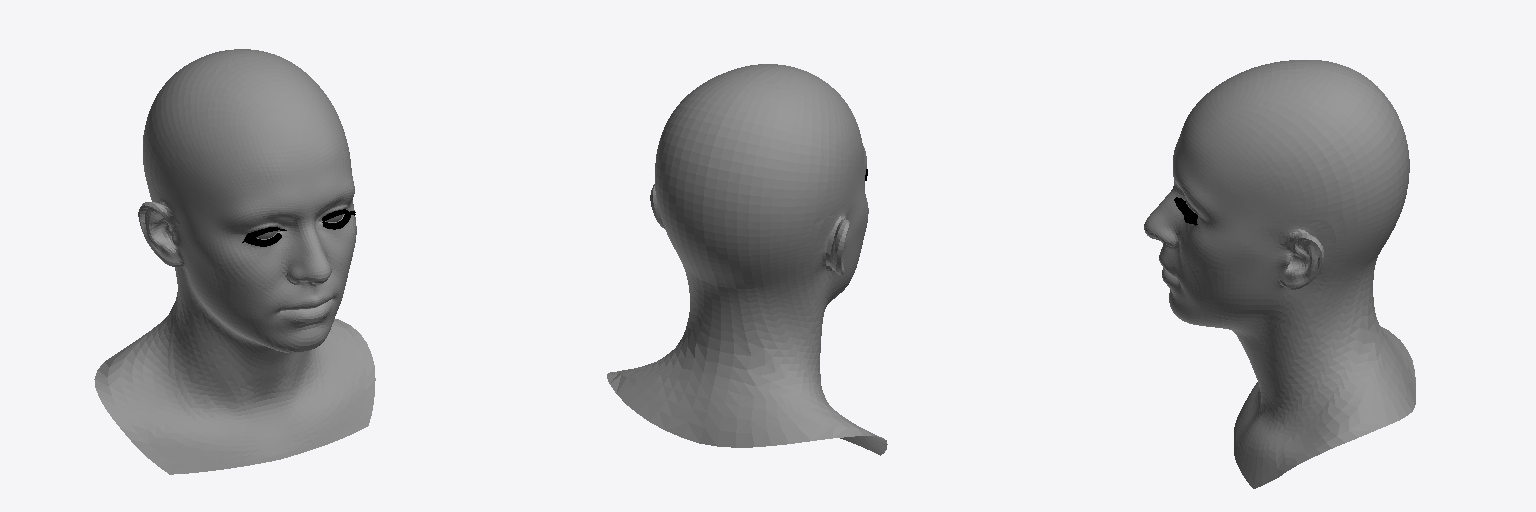
Rendered from identity061.obj.
3 views of the same model, side by side, from view 1: azimuth 30°, elevation 25°; view 2: azimuth 150°, elevation 25°; view 3: azimuth 270°, elevation 25° (orthographic).
Size of the model in its own units: 24.85 by 33.82 by 22.29.